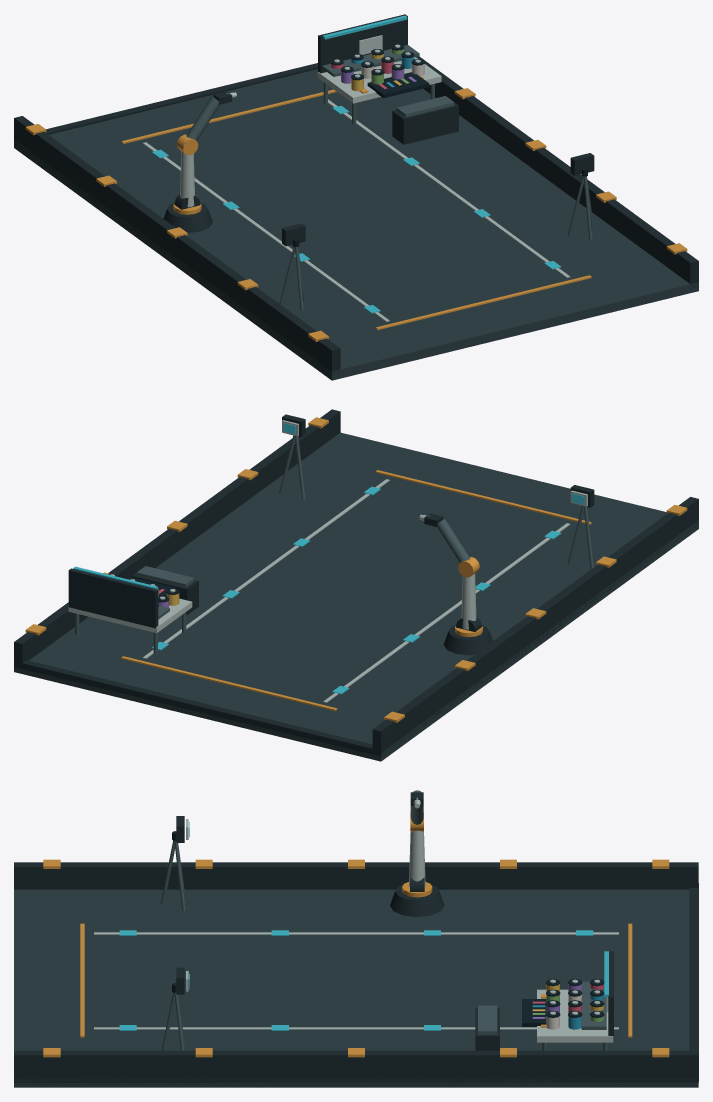
Rendered from mork_garage_d0_lod0.meshopt.glb.
3 renders of one model, top to bottom at view 1: azimuth 30°, elevation 25°; view 2: azimuth 150°, elevation 25°; view 3: azimuth 270°, elevation 25°, orthographic. The views are drawn at different scales.
Parts seen in each view (by area): view 1: GARAGE_STATIC_BODY, ARM_UPPER_LINK, ARM_FORE_LINK; view 2: GARAGE_STATIC_BODY, ARM_UPPER_LINK, ARM_FORE_LINK; view 3: GARAGE_STATIC_BODY, ARM_UPPER_LINK.
Boxes of the visible parts, bbox=[...] form: GARAGE_STATIC_BODY: bbox=[14, 14, 698, 380]; ARM_UPPER_LINK: bbox=[174, 151, 200, 209]; ARM_FORE_LINK: bbox=[176, 96, 219, 155]; GARAGE_STATIC_BODY: bbox=[14, 409, 698, 761]; ARM_UPPER_LINK: bbox=[456, 573, 481, 631]; ARM_FORE_LINK: bbox=[436, 518, 479, 577]; GARAGE_STATIC_BODY: bbox=[14, 816, 698, 1087]; ARM_UPPER_LINK: bbox=[409, 830, 425, 891].
Size of what is drawn, in the model's own units: 12.14 by 4.07 by 18.01.
